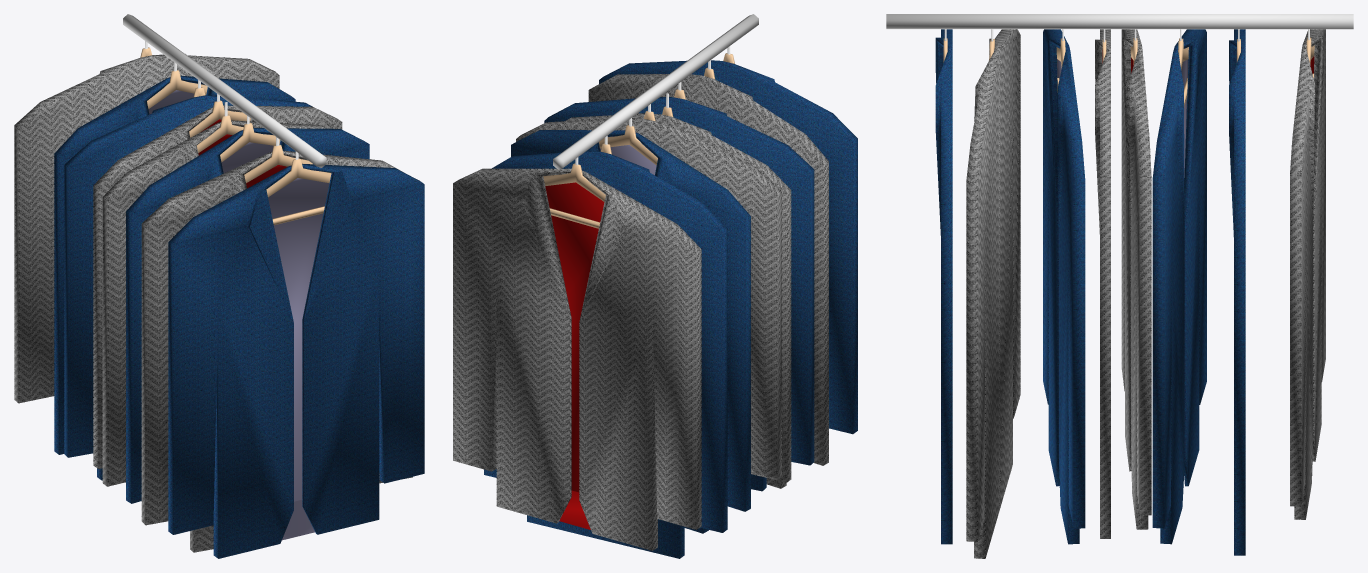
Rendered from sweethome3d-contributions-hanging-suits.glb.
3 views of the same model, side by side, from view 1: azimuth 30°, elevation 25°; view 2: azimuth 150°, elevation 25°; view 3: azimuth 270°, elevation 25° (orthographic). The views are drawn at different scales.
Parts seen in each view (by area): view 1: 7_7, 31_31, 15_15, 1_1, 23_23, 11_11, 6_6, 19_19, 25_25, 33_33, 5_5, 10_10 (+5 smaller); view 2: 31_31, 19_19, 25_25, 7_7, 11_11, 15_15, 1_1, 30_30, 23_23, 33_33, 29_29, 16_16 (+1 smaller); view 3: 1_1, 15_15, 11_11, 31_31, 25_25, 33_33, 19_19, 7_7, 23_23.
Boxes of the visible parts, <box> form: 7_7: <box>168,163,424,558</box>; 31_31: <box>14,54,279,403</box>; 15_15: <box>64,95,312,482</box>; 1_1: <box>141,150,412,552</box>; 23_23: <box>102,120,325,486</box>; 11_11: <box>126,128,369,503</box>; 6_6: <box>268,178,329,540</box>; 19_19: <box>54,75,295,480</box>; 25_25: <box>93,105,342,468</box>; 33_33: <box>123,14,326,167</box>; 5_5: <box>266,158,331,225</box>; 10_10: <box>221,142,273,173</box>; 31_31: <box>453,168,701,550</box>; 19_19: <box>484,151,727,558</box>; 25_25: <box>516,118,781,478</box>; 7_7: <box>599,60,857,434</box>; 11_11: <box>544,97,814,491</box>; 15_15: <box>511,130,750,533</box>; 1_1: <box>588,74,828,488</box>; 30_30: <box>545,182,604,529</box>; 23_23: <box>565,113,791,482</box>; 33_33: <box>553,14,758,169</box>; 29_29: <box>543,163,605,228</box>; 16_16: <box>598,125,657,165</box>; 1_1: <box>966,29,1020,558</box>; 15_15: <box>1152,29,1206,544</box>; 11_11: <box>1043,29,1085,544</box>; 31_31: <box>1290,29,1325,519</box>; 25_25: <box>1121,29,1151,529</box>; 33_33: <box>886,14,1353,29</box>; 19_19: <box>1229,29,1245,555</box>; 7_7: <box>935,29,952,544</box>; 23_23: <box>1095,29,1110,538</box>.
Bounding box in the file's own units: 60.02 × 94 × 80.
Materials: 7 (2 with a texture image).
